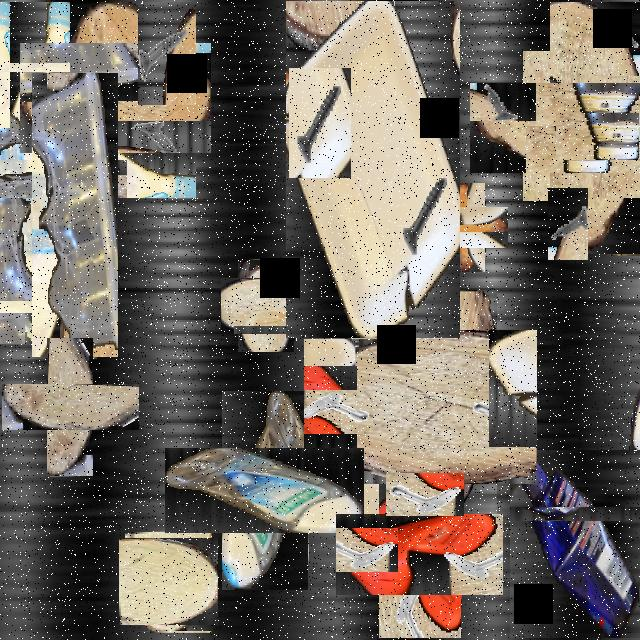glass: (523, 51, 607, 201), (0, 32, 40, 102)
metal: (289, 70, 351, 180), (138, 2, 196, 105), (0, 285, 59, 358), (334, 270, 398, 334), (394, 464, 456, 524), (548, 188, 588, 260)
plastic: (286, 2, 460, 340), (0, 65, 133, 261), (510, 450, 640, 638), (32, 73, 118, 357), (194, 419, 336, 562), (358, 492, 482, 617), (567, 448, 640, 579), (574, 94, 640, 179)
wood: (323, 310, 517, 504), (40, 23, 190, 174), (509, 42, 640, 213), (316, 176, 428, 290), (122, 535, 216, 628), (24, 361, 116, 453), (229, 269, 303, 343), (431, 195, 497, 260)
